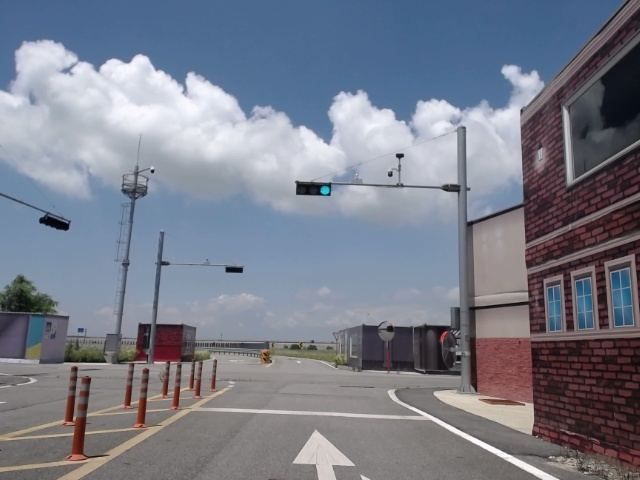green_3: (297, 183, 331, 195)
